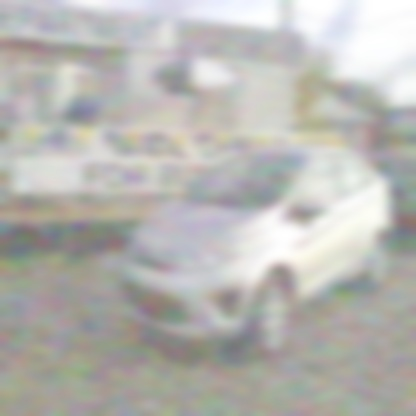Vehicle: (124, 144, 394, 361)
